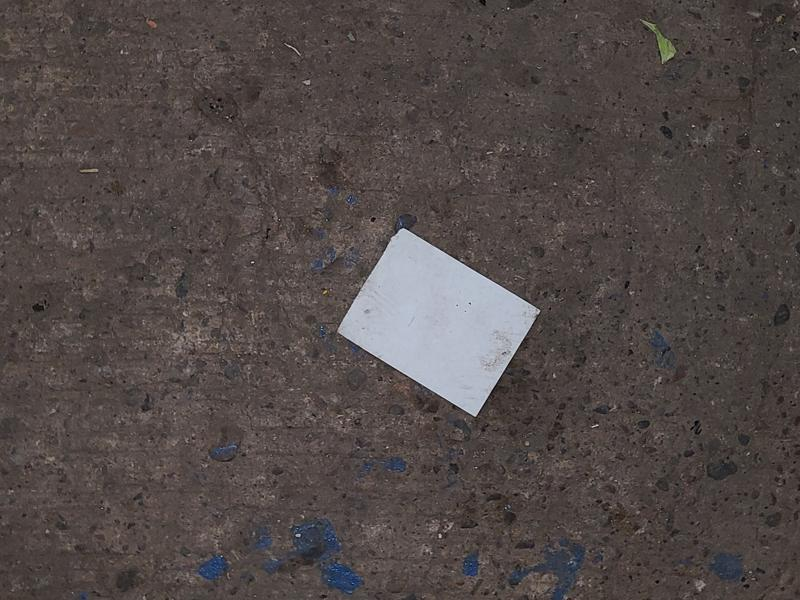papel: (336, 219, 540, 417)
